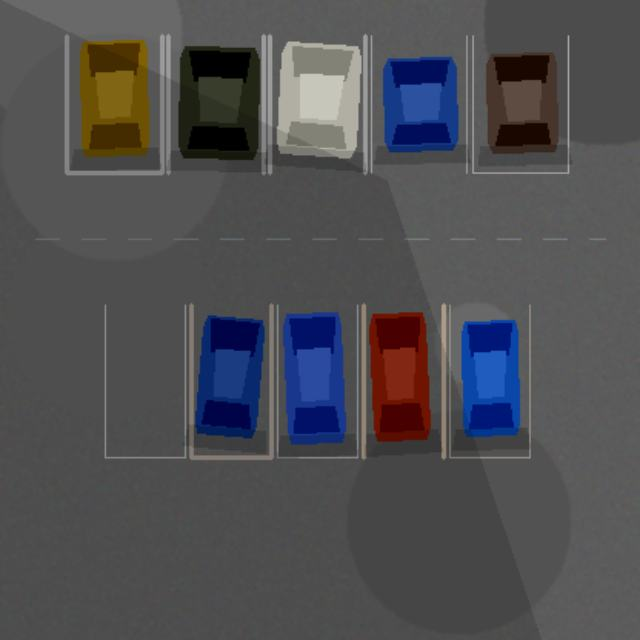space-empty: (105, 305, 185, 457)
space-occupied: (66, 35, 162, 172), (269, 35, 365, 172), (472, 35, 568, 172), (168, 35, 263, 172), (371, 35, 466, 172), (191, 305, 271, 457), (277, 305, 357, 457), (363, 305, 443, 457), (449, 305, 529, 457)
